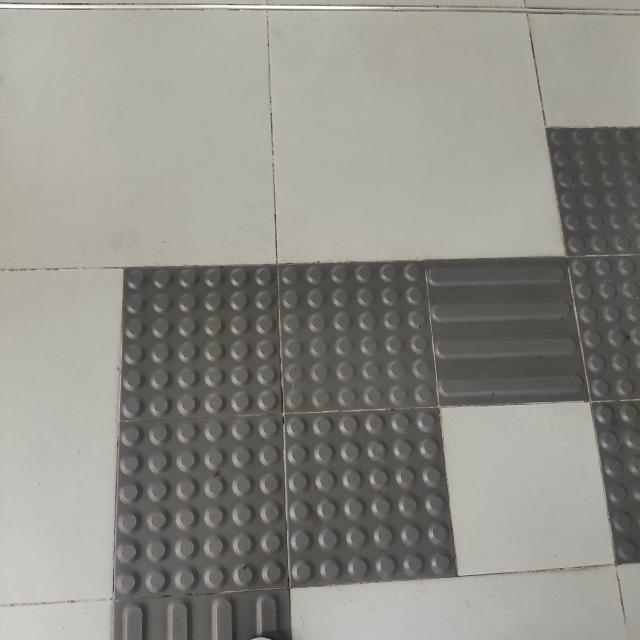kanan: (56, 236, 606, 640)
